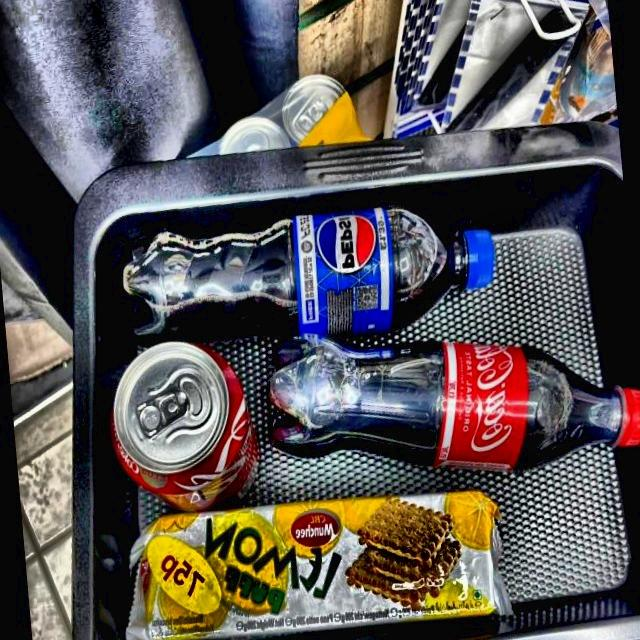coke-bottle: (260, 323, 636, 468)
coke-can: (113, 346, 253, 515)
lemon puff: (123, 494, 512, 640)
pepsi-bottle: (122, 217, 494, 345)
